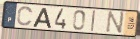0: (72, 9, 87, 31)
4: (54, 8, 67, 30)
A: (32, 7, 53, 29)
C: (16, 5, 34, 27)
I: (90, 10, 97, 33)
N: (105, 10, 126, 35)
